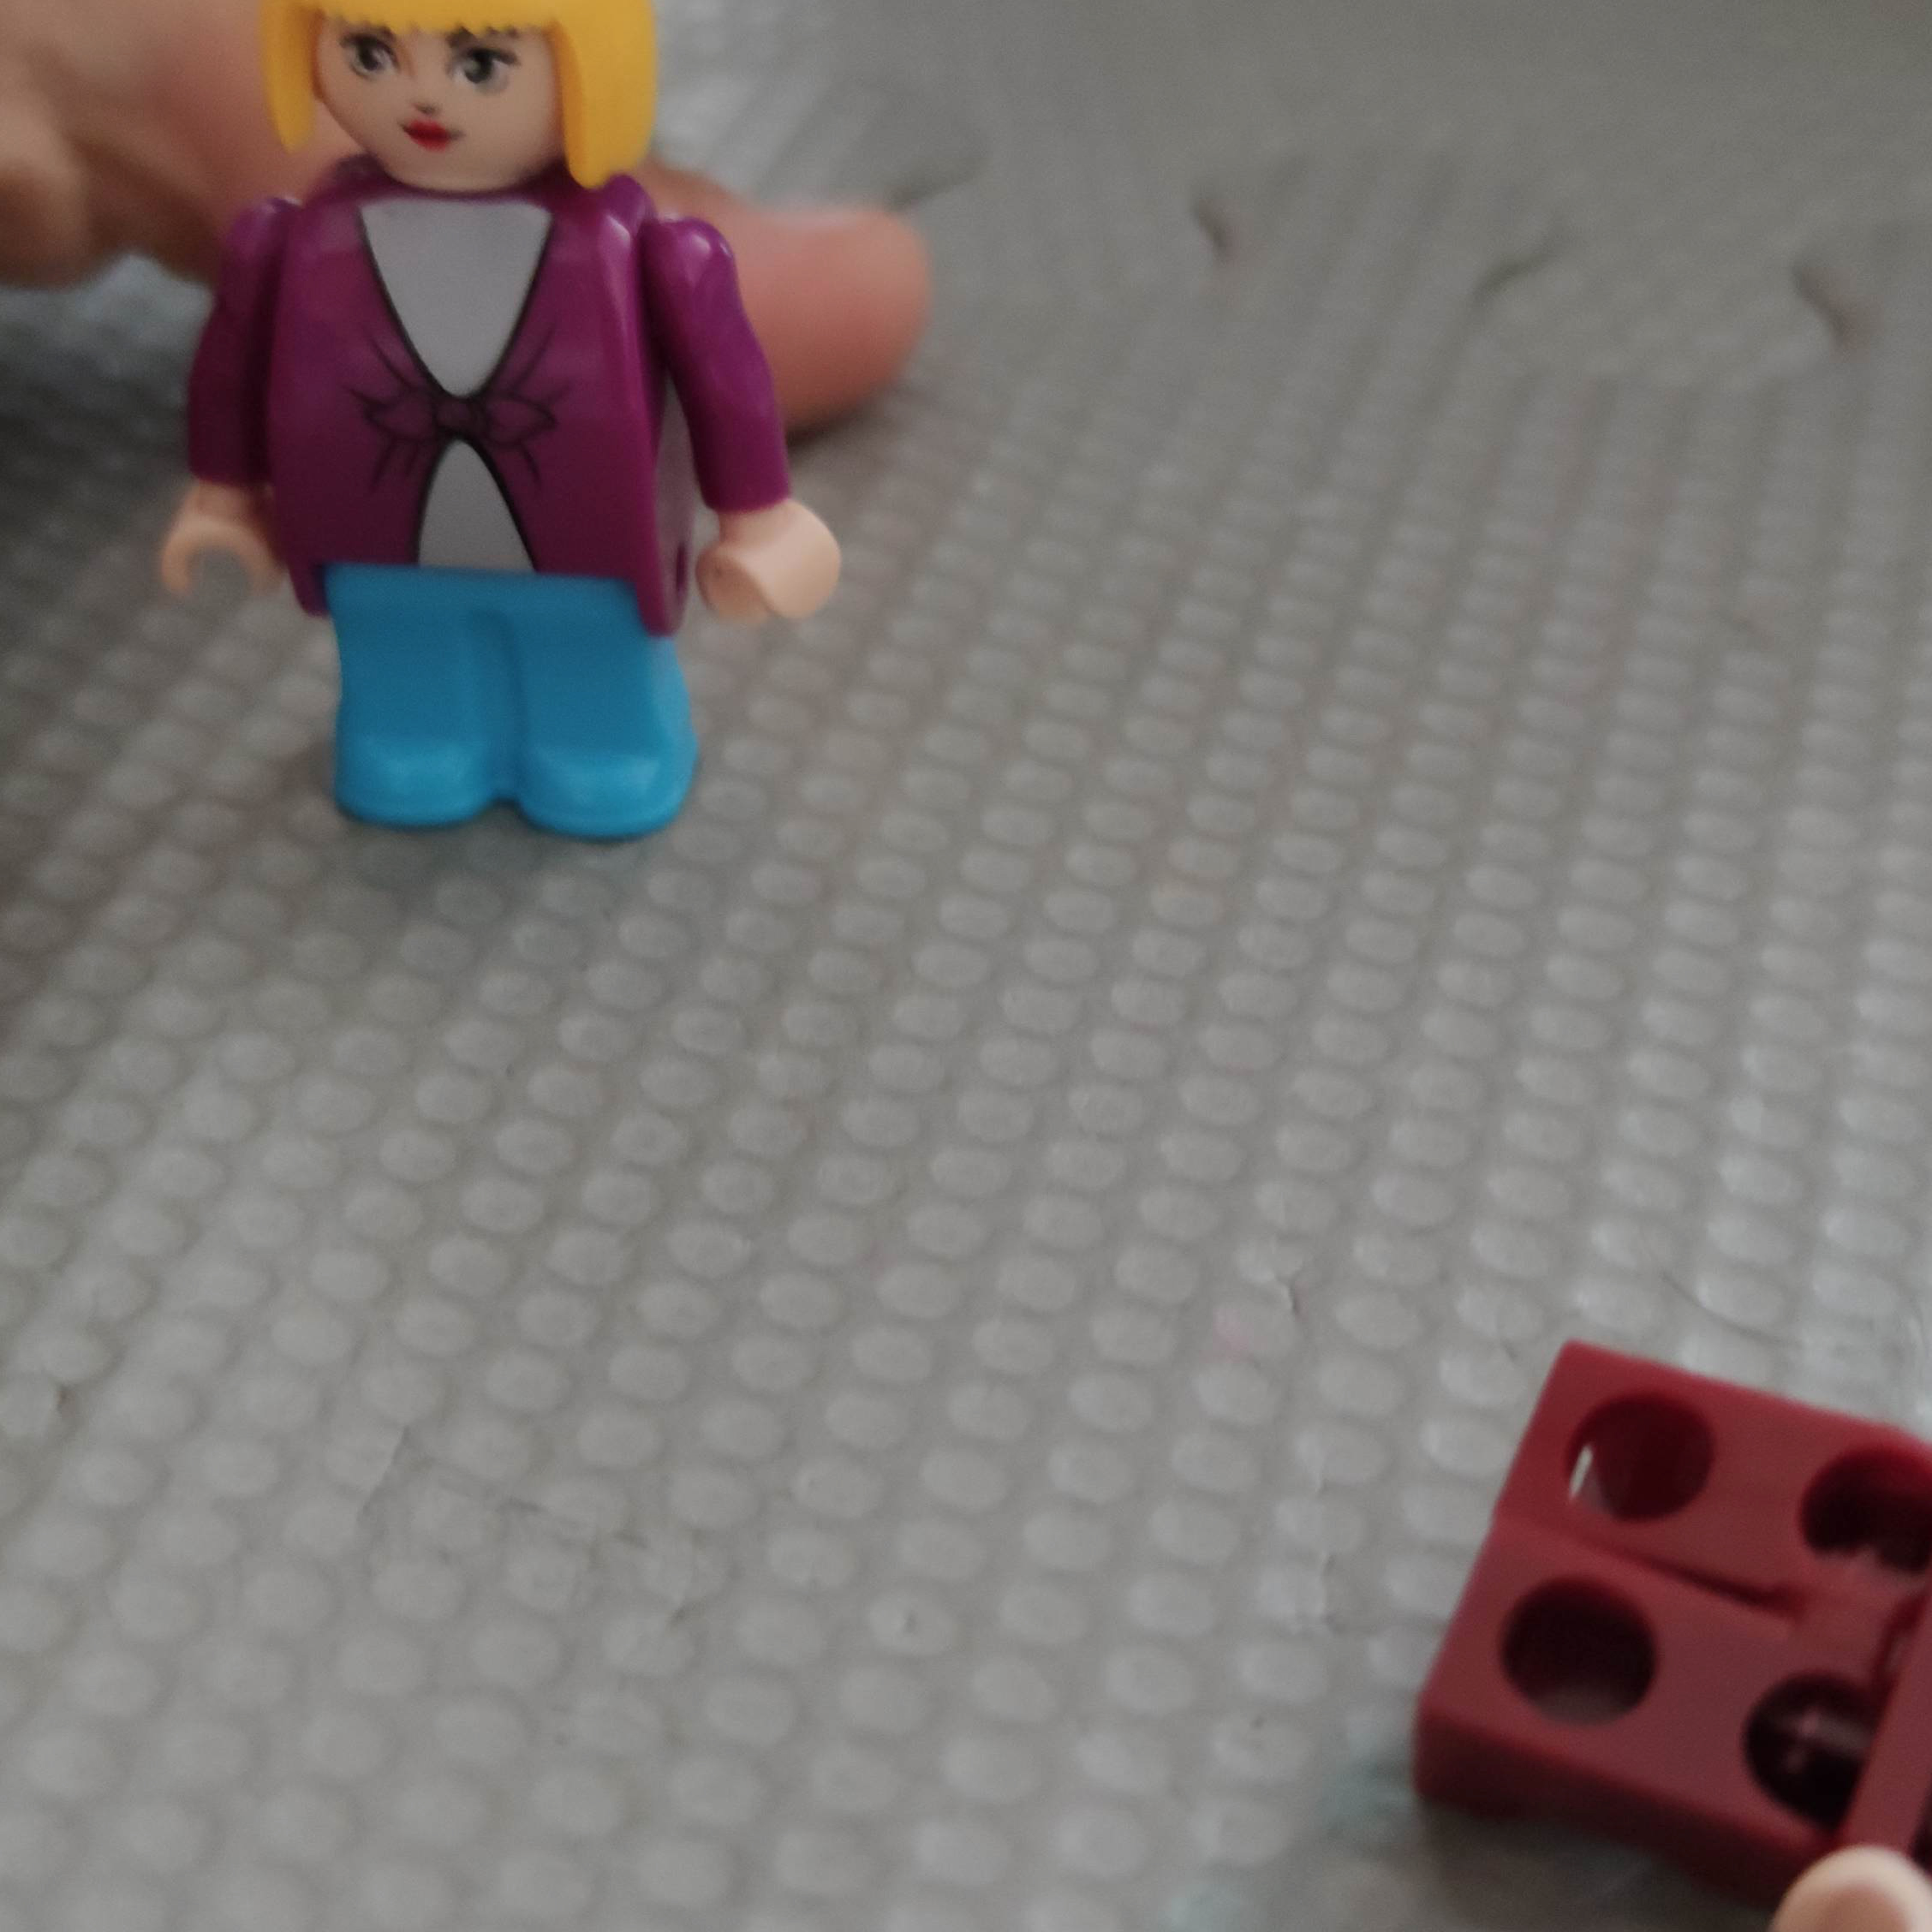lego: (161, 0, 842, 842)
